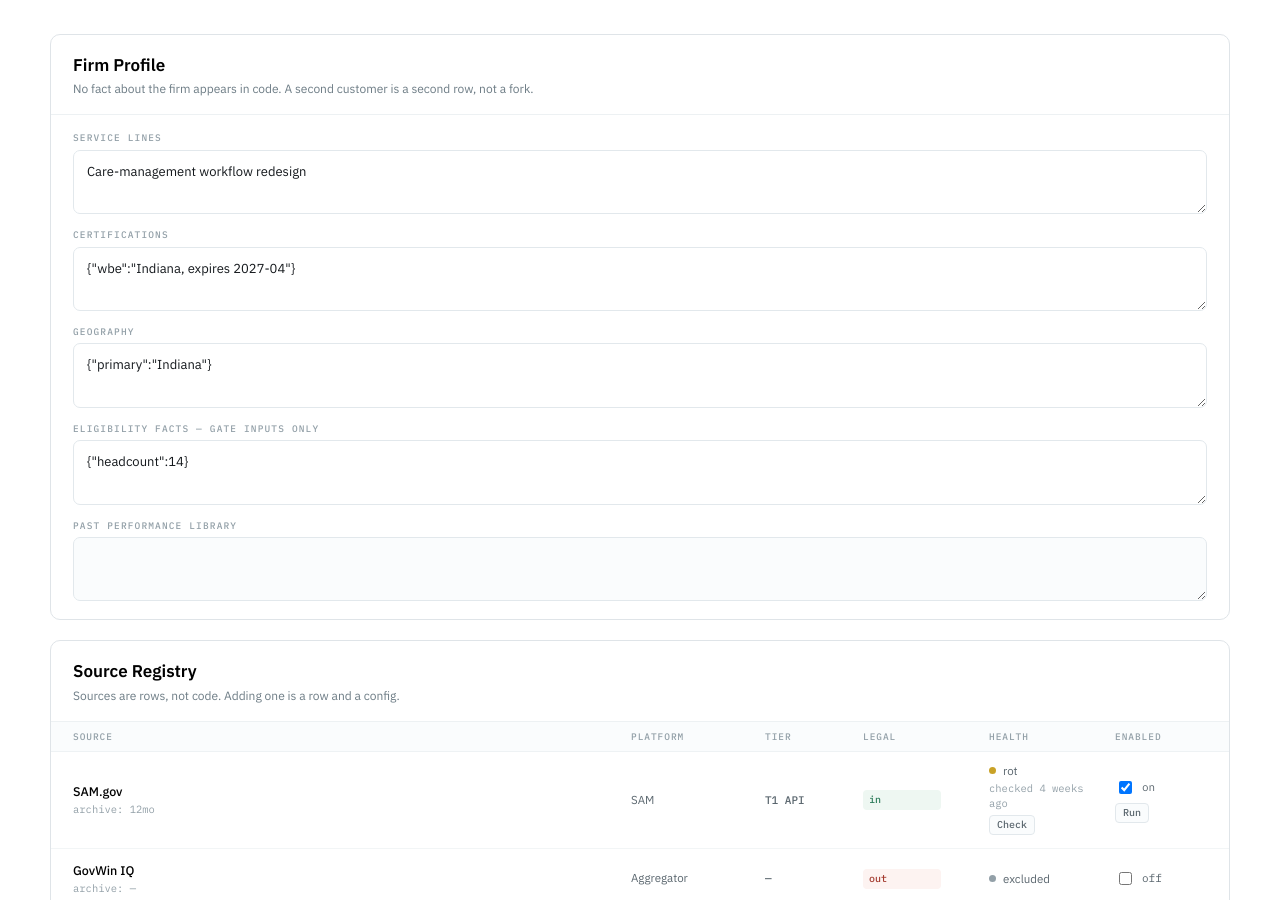
it: a fail-closed 400 is shown to the operator, not swallowed
Expected: the text "GovWin IQ" is shown, x1=73 y1=862 x2=134 y2=878
Click the checkbox named "Enable GovWin IQ". click: (1126, 879)
box: x1=1119 y1=872 x2=1132 y2=885
(page scrolled)
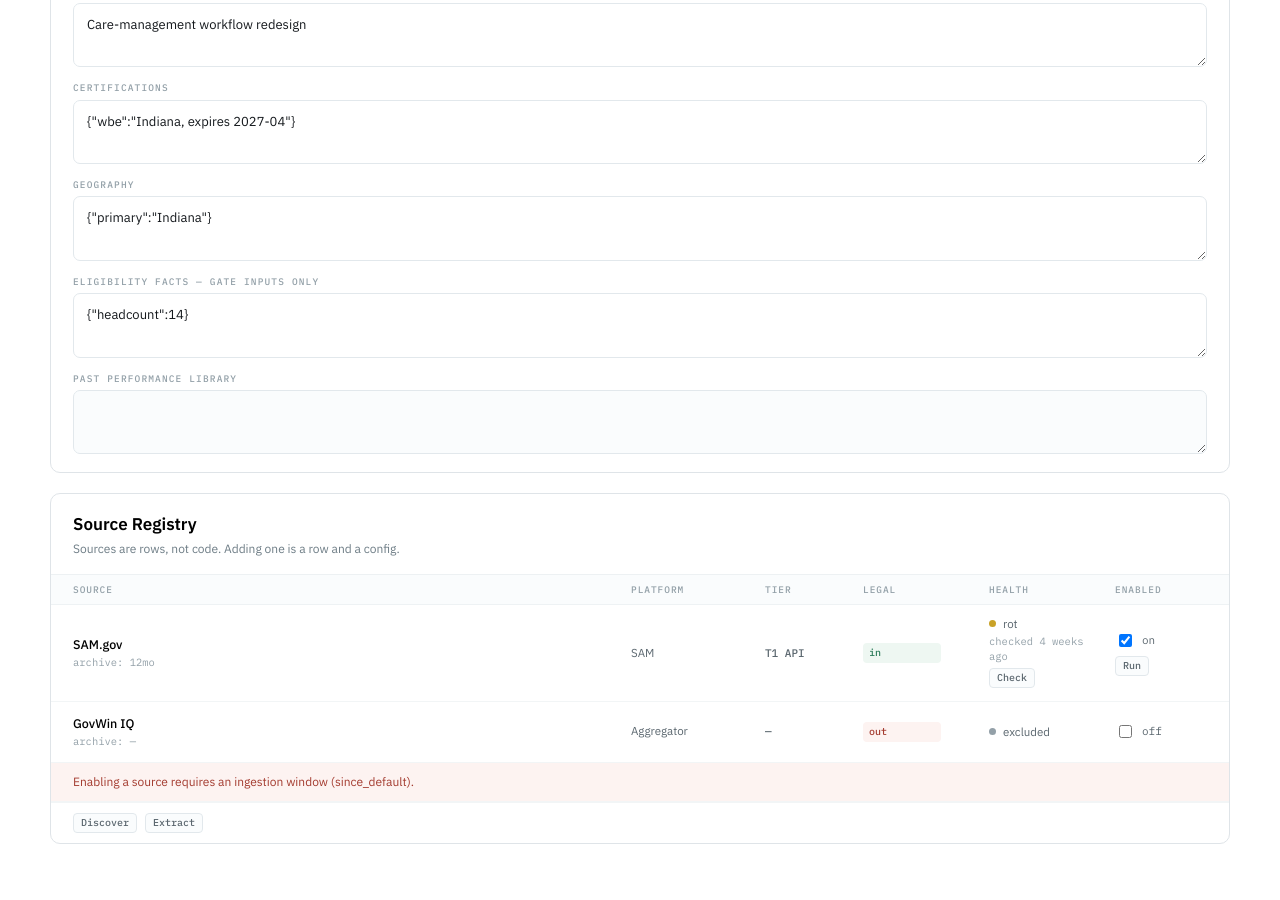
Now the message shows "ingestion window", box x1=73 y1=774 x2=414 y2=789
